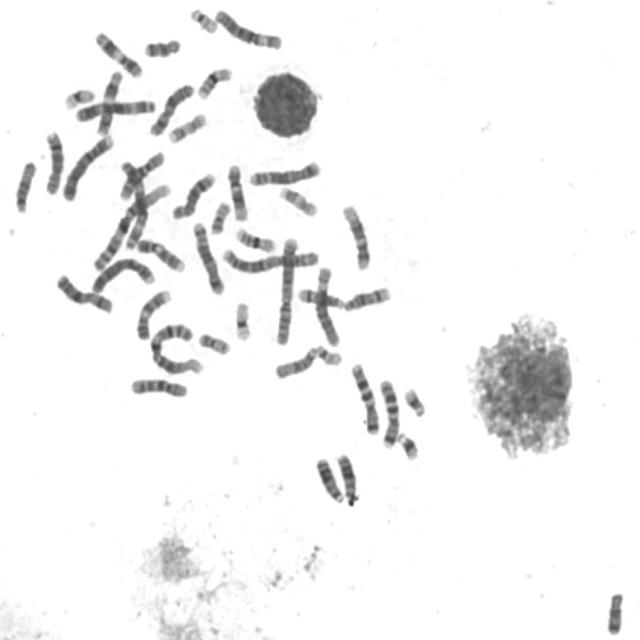A1: (90, 179, 174, 273), (147, 319, 207, 377)
A2: (218, 244, 322, 276), (272, 232, 300, 347)
A3: (116, 156, 149, 252), (72, 95, 158, 124)
B4: (59, 130, 116, 202), (88, 253, 156, 295)
B5: (189, 218, 227, 296), (246, 158, 323, 188)
C10: (117, 147, 167, 202), (128, 375, 190, 400)
C11: (92, 28, 145, 80), (94, 67, 125, 138)
C12: (340, 201, 372, 272), (225, 162, 250, 222)
C6: (212, 5, 284, 52), (312, 262, 342, 348)
C7: (348, 360, 382, 438), (376, 375, 402, 450)
C8: (168, 169, 218, 221), (41, 127, 66, 196)
C9: (134, 286, 174, 341), (134, 236, 187, 275)
D13: (313, 454, 346, 504), (333, 449, 360, 506)
D14: (340, 283, 392, 312), (295, 285, 347, 310)
D15: (272, 344, 320, 381), (12, 158, 38, 215)
E16: (194, 64, 234, 101), (233, 224, 278, 254)
E17: (276, 183, 320, 219), (165, 110, 208, 145)
E18: (604, 588, 626, 636), (141, 35, 182, 60)
F19: (232, 298, 253, 343), (61, 85, 97, 111)
F20: (196, 329, 232, 357), (208, 198, 232, 236)
G21: (394, 428, 421, 462), (402, 384, 428, 418)
G22: (187, 5, 220, 35), (312, 342, 344, 368)
X: (146, 80, 196, 138), (52, 271, 114, 315)
